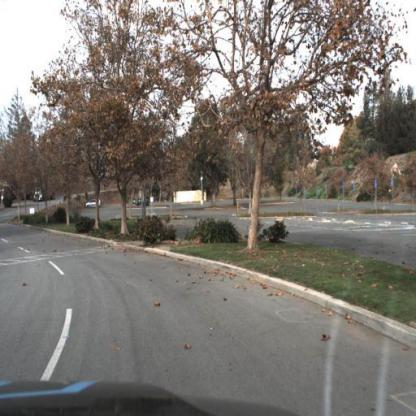car: (133, 194, 155, 210), (134, 196, 153, 210), (84, 198, 103, 210)
